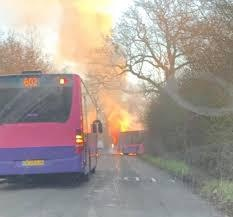fire: (21, 74, 39, 87)
